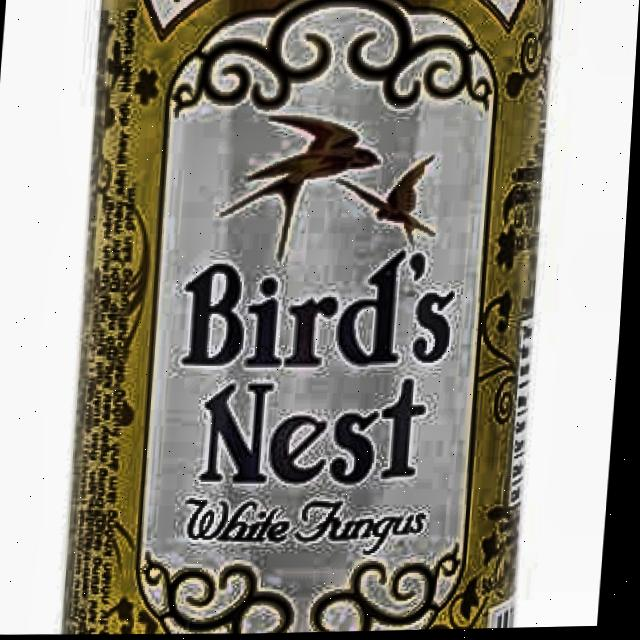metal: (40, 0, 587, 639)
